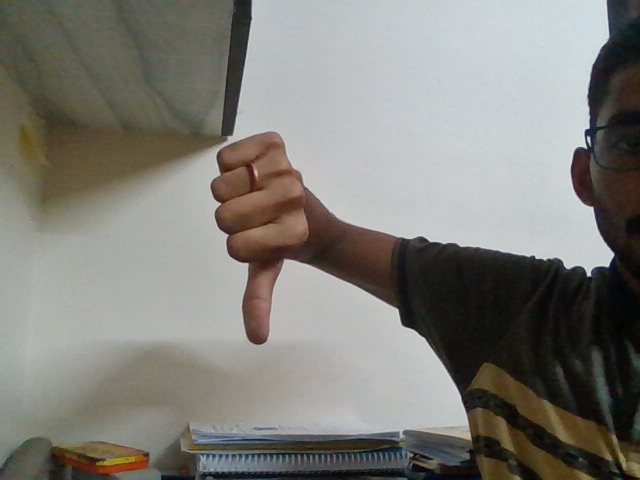No: (192, 115, 353, 362)
